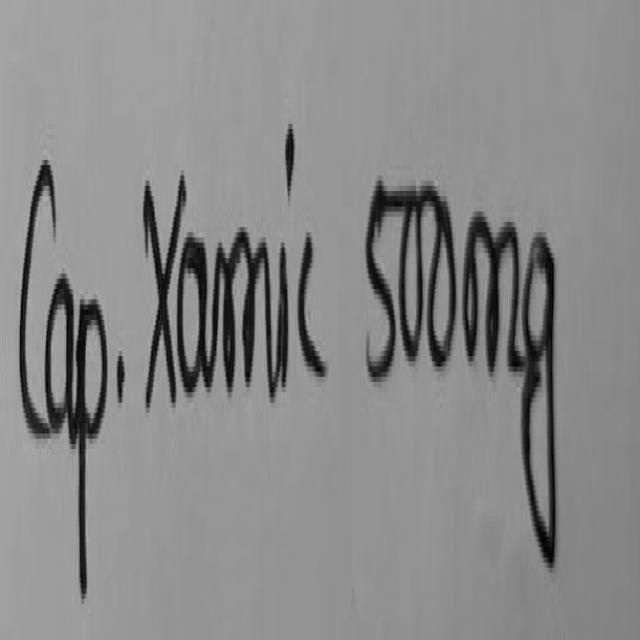0: (421, 186, 457, 364), (399, 196, 423, 354)
5: (368, 181, 410, 374)
C: (19, 160, 56, 431)
X: (145, 170, 186, 405)
a: (177, 237, 223, 390), (45, 274, 74, 441)
c: (299, 232, 326, 374)
g: (523, 232, 555, 560)
i: (275, 243, 288, 385), (286, 119, 294, 194)
m: (211, 211, 273, 401), (464, 217, 525, 369)
p: (74, 299, 107, 596)
